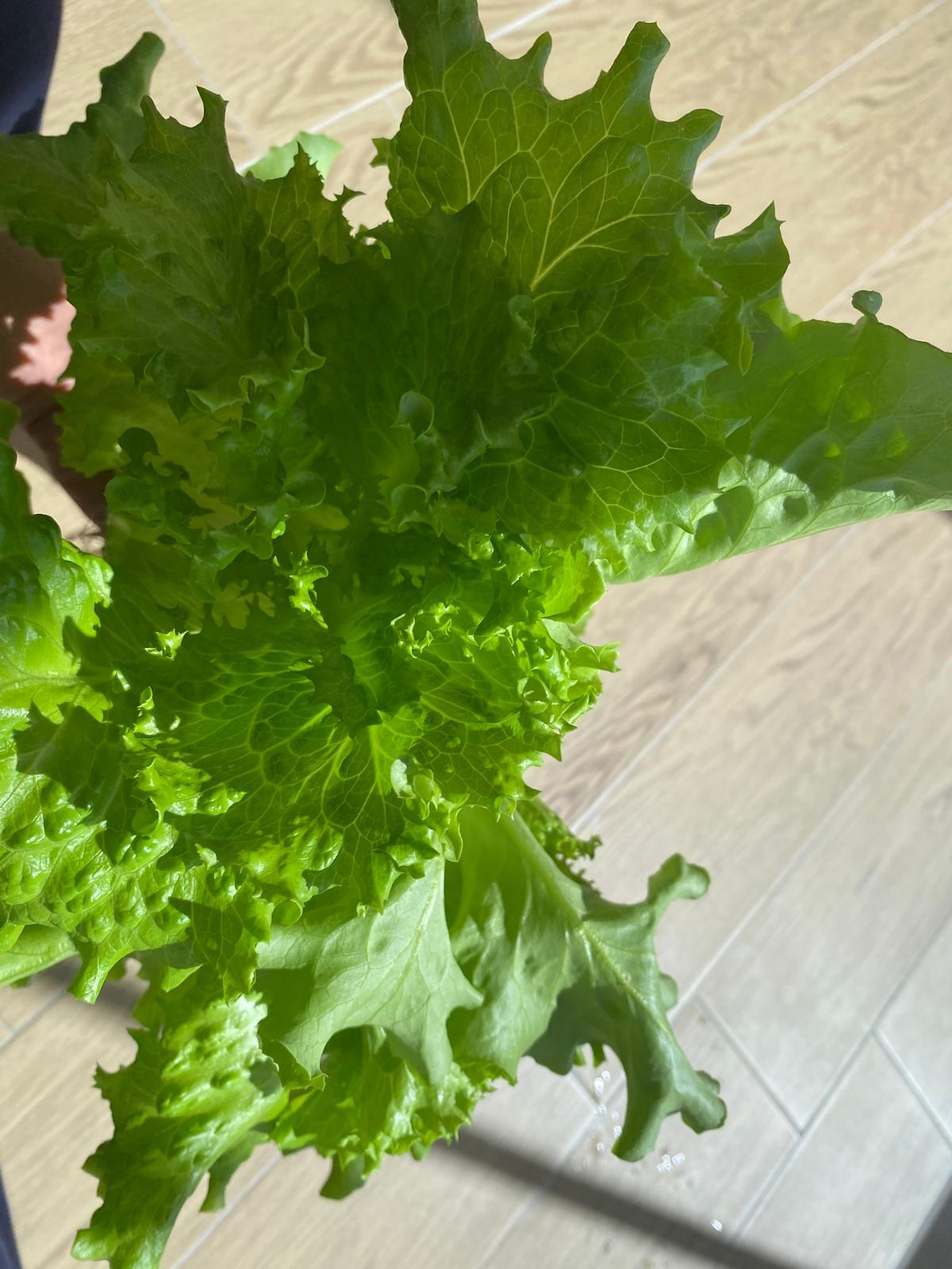Healthy Lettuce: (5, 0, 952, 1269)
